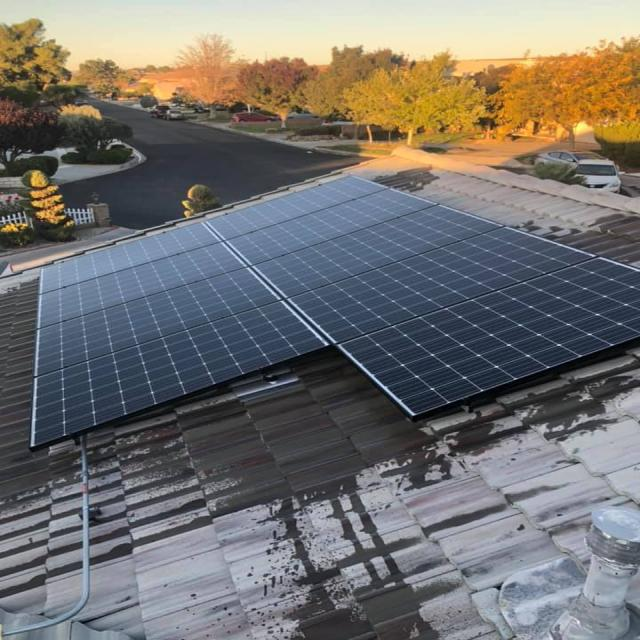clean-solar-panel: (32, 176, 638, 446)
